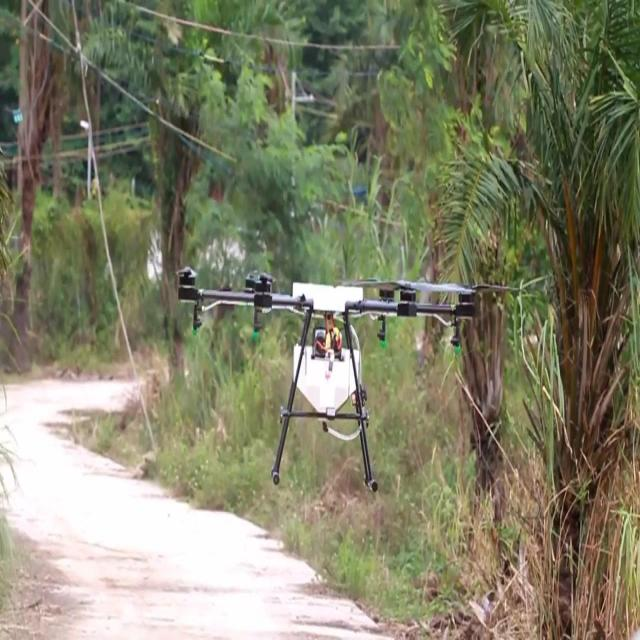drone: (175, 262, 478, 493)
